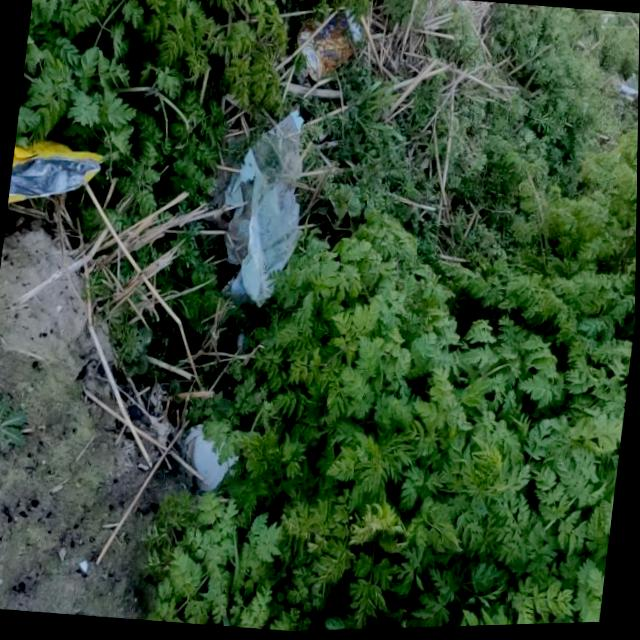Can-Metal: (290, 4, 365, 88)
Plastic: (211, 105, 318, 315), (7, 133, 105, 217)
